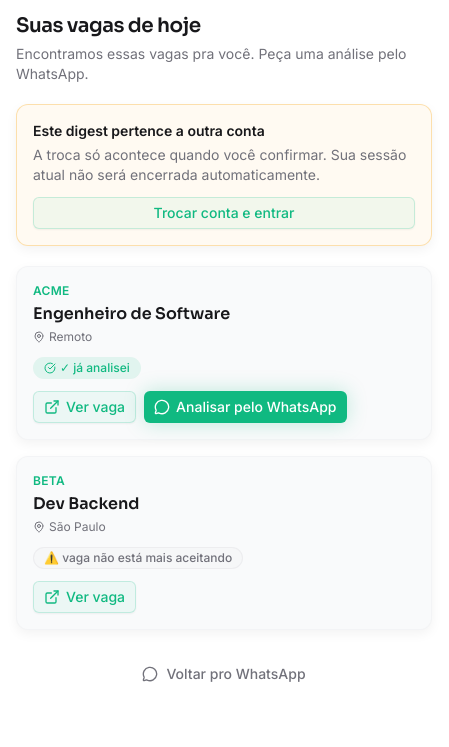
Scenario: DigestPage › preserves the current session cache when explicit account switching fails
This screenshot has width=449, height=747.
What coordinates should you click on to do the following:
click the button "Trocar conta e entrar"
I would click on:
 (224, 213)
Its box is left=33, top=197, right=415, bottom=229.
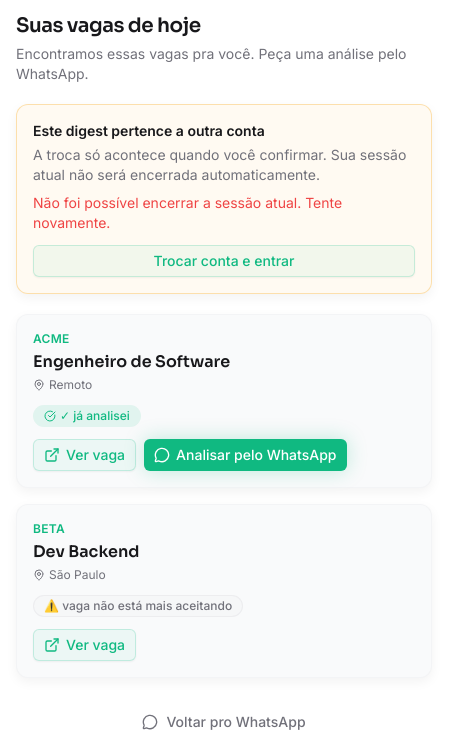
Expected: the text "Não foi possível encerrar a sessão atual. Tente novamente." is shown, left=33, top=194, right=342, bottom=231
